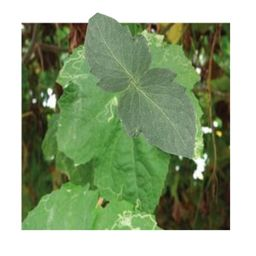liriomyza: (105, 197, 157, 231), (58, 45, 91, 88), (193, 116, 204, 156), (103, 94, 118, 123), (142, 28, 164, 46)
